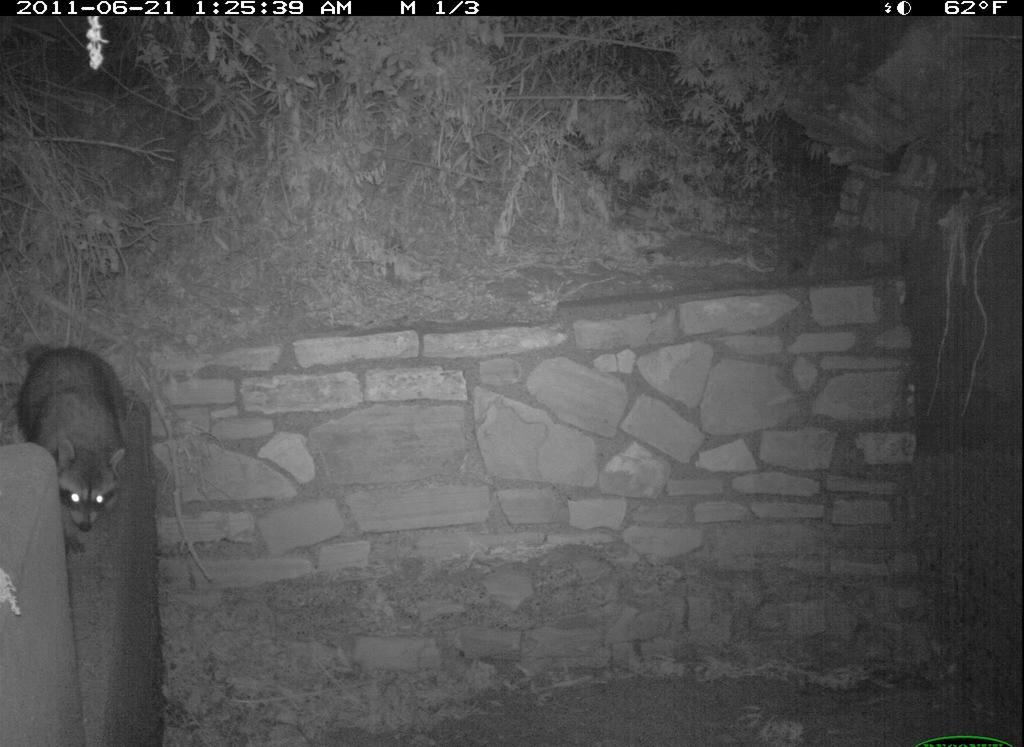raccoon: (8, 338, 143, 561)
